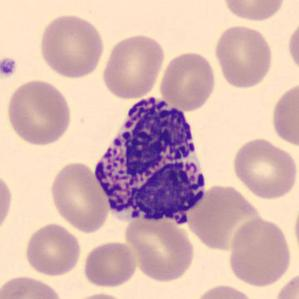Basophil: (88, 90, 213, 233)
Platelets: (0, 55, 18, 79)
RBC: (121, 209, 197, 283), (225, 214, 293, 288), (4, 78, 74, 148), (36, 12, 106, 80), (48, 159, 110, 234), (100, 32, 166, 101), (230, 136, 297, 201), (212, 22, 275, 90), (196, 187, 262, 250), (158, 50, 218, 112), (23, 222, 83, 278), (81, 239, 139, 289), (268, 80, 298, 149), (0, 273, 66, 299), (220, 0, 286, 23), (190, 282, 258, 299), (0, 170, 15, 236), (285, 18, 299, 77), (271, 270, 299, 299), (65, 290, 129, 299), (292, 196, 299, 262)
